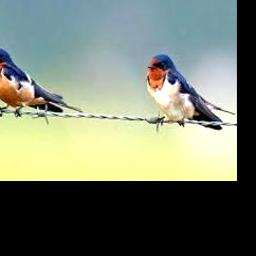Swallow: (145, 54, 235, 130), (0, 47, 83, 116)
